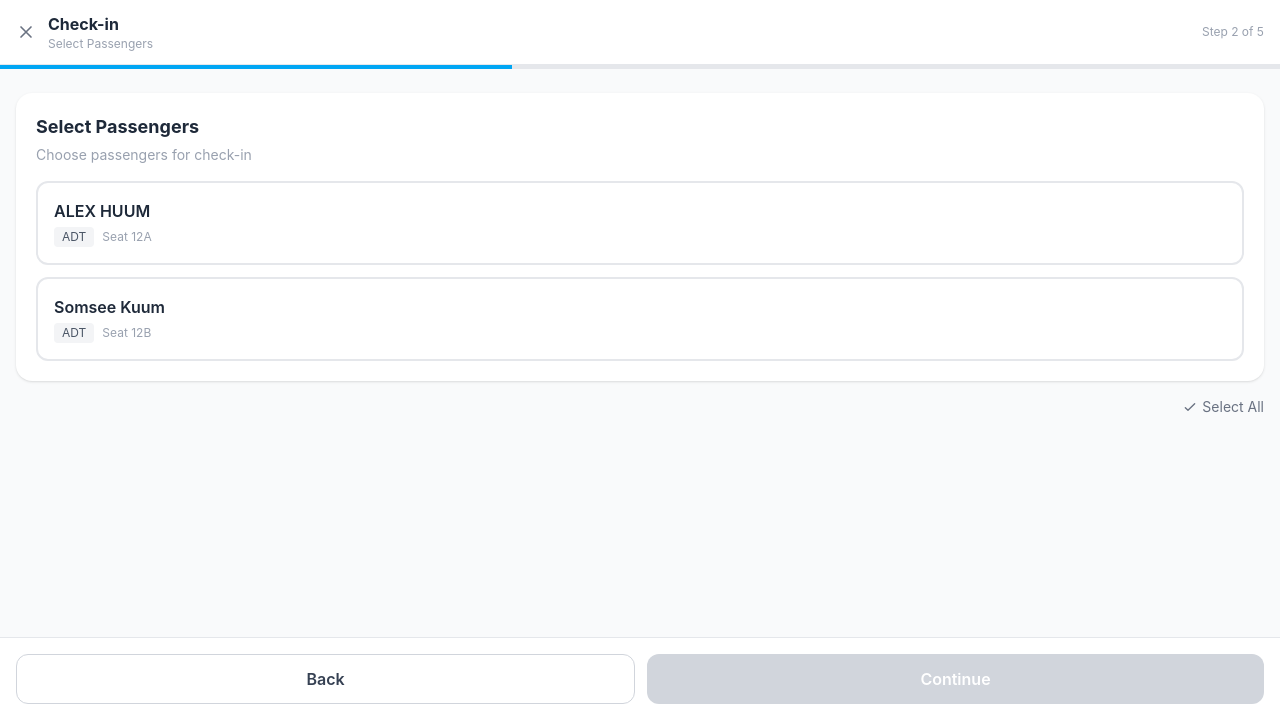
Test case: SelectPassengers › selects all passengers with Select All
Step 1. Click the button "Select All" → (1223, 407), box [1182, 397, 1264, 417]
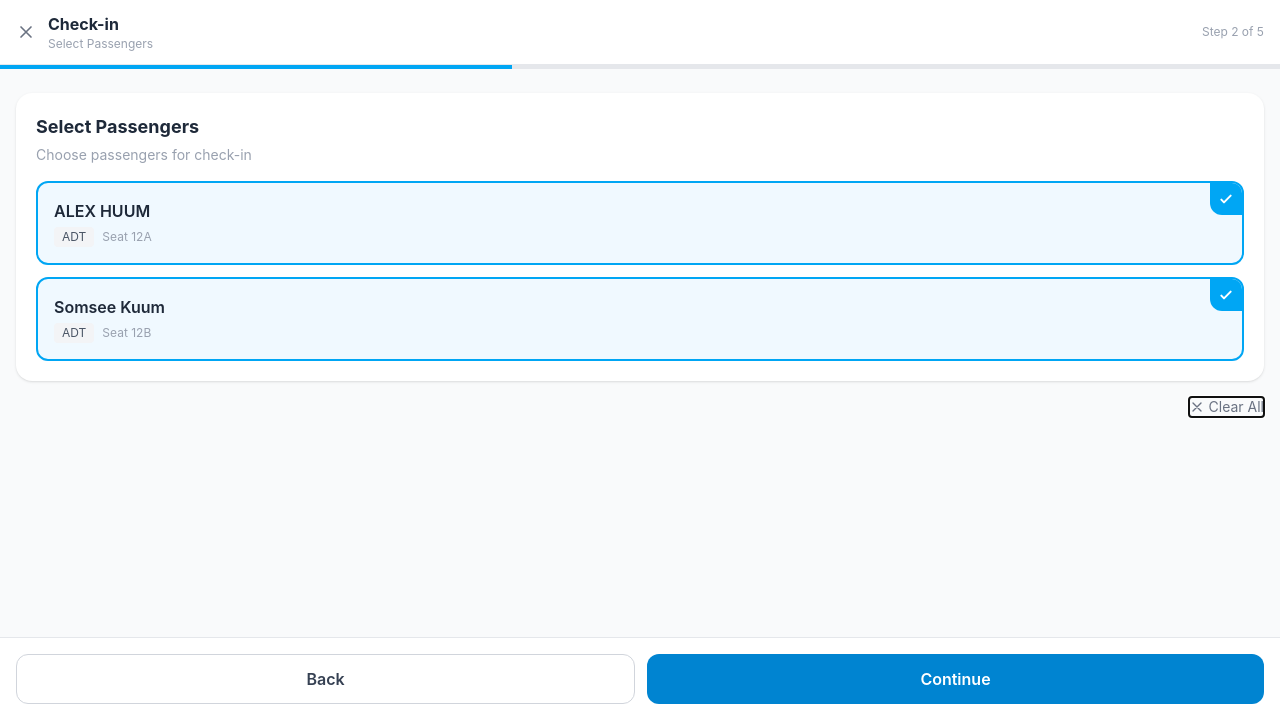
Expected: the button "Continue" is enabled, [647, 654, 1264, 704]
